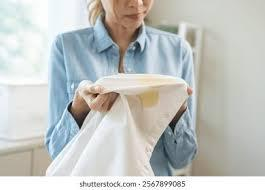lipstick: (134, 85, 161, 112)
